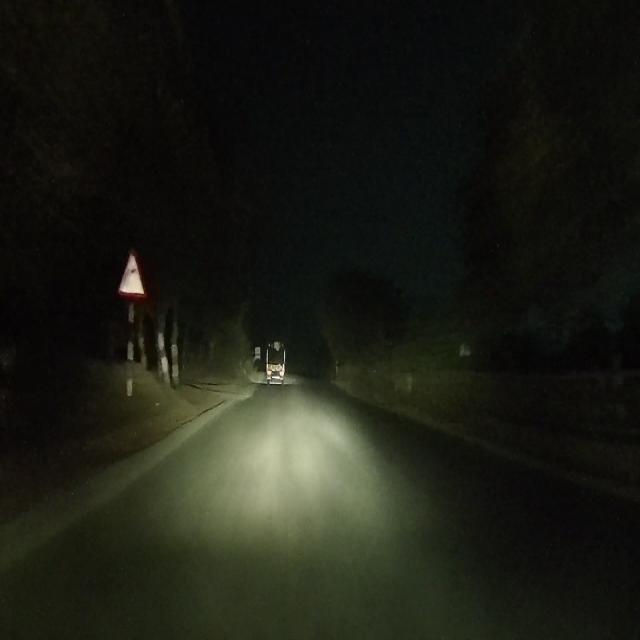right-hand-curve: (120, 252, 144, 294)
